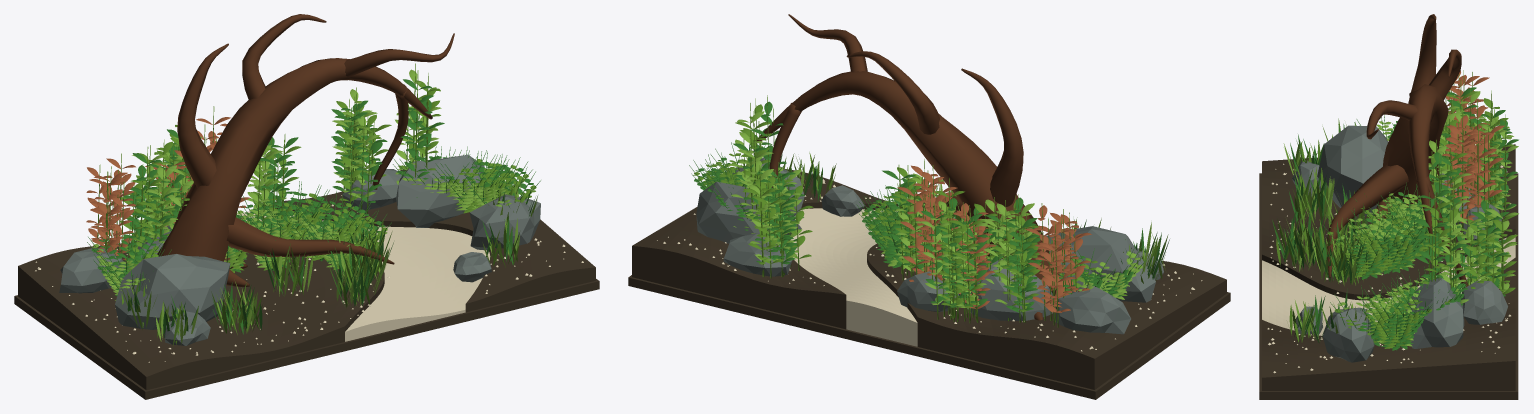
File: hardscape.glb
3 renders of one model, left to right at view 1: azimuth 30°, elevation 25°; view 2: azimuth 150°, elevation 25°; view 3: azimuth 270°, elevation 25°, orthographic. The views are drawn at different scales.
Parts seen in each view (by area): view 1: hardscape.wood.arch, bed.left, bed.path, bed.right, hardscape.stone.00, bed.foundation, hardscape.stone.04, plants.stem.015, plants.stem.049, hardscape.stone.05, plants.stem.021, plants.stem.027 (+34 smaller); view 2: bed.left, hardscape.wood.arch, bed.right, bed.path, bed.foundation, plants.stem.015, hardscape.stone.00, plants.stem.039, plants.stem.022, hardscape.stone.04, hardscape.stone.02, plants.stem.020 (+17 smaller); view 3: bed.right, hardscape.wood.arch, bed.left, bed.foundation, bed.path, hardscape.stone.00, plants.stem.020, plants.stem.027, hardscape.stone.04, hardscape.stone.05, plants.stem.039, plants.stem.016 (+46 smaller).
Part boxes in pixels (left/top/right/bottom): hardscape.wood.arch: left=157, top=14, right=454, bottom=286; bed.left: left=18, top=230, right=384, bottom=390; bed.path: left=237, top=211, right=490, bottom=341; bed.right: left=264, top=169, right=595, bottom=312; hardscape.stone.00: left=115, top=254, right=230, bottom=329; bed.foundation: left=14, top=279, right=599, bottom=399; hardscape.stone.04: left=396, top=154, right=484, bottom=227; plants.stem.015: left=86, top=153, right=135, bottom=259; plants.stem.049: left=331, top=105, right=391, bottom=213; hardscape.stone.05: left=469, top=194, right=540, bottom=250; plants.stem.021: left=246, top=134, right=301, bottom=231; plants.stem.027: left=395, top=63, right=444, bottom=197; bed.left: left=867, top=243, right=1226, bottom=389; hardscape.wood.arch: left=757, top=14, right=1070, bottom=320; bed.right: left=632, top=169, right=898, bottom=329; bed.path: left=790, top=208, right=917, bottom=346; bed.foundation: left=628, top=275, right=1230, bottom=399; plants.stem.015: left=1025, top=203, right=1091, bottom=327; hardscape.stone.00: left=1046, top=226, right=1155, bottom=302; plants.stem.039: left=743, top=162, right=797, bottom=278; plants.stem.022: left=938, top=210, right=988, bottom=323; hardscape.stone.04: left=696, top=181, right=801, bottom=243; hardscape.stone.02: left=1053, top=285, right=1130, bottom=334; plants.stem.020: left=897, top=159, right=957, bottom=288; bed.right: left=1262, top=257, right=1515, bottom=390; hardscape.wood.arch: left=1327, top=14, right=1468, bottom=287; bed.left: left=1262, top=144, right=1515, bottom=300; bed.foundation: left=1259, top=173, right=1518, bottom=399; bed.path: left=1262, top=234, right=1515, bottom=335; hardscape.stone.00: left=1317, top=125, right=1388, bottom=216; plants.stem.020: left=1442, top=100, right=1504, bottom=233; plants.stem.027: left=1413, top=181, right=1471, bottom=305; hardscape.stone.04: left=1406, top=277, right=1464, bottom=348; hardscape.stone.05: left=1322, top=307, right=1374, bottom=362; plants.stem.039: left=1471, top=199, right=1518, bottom=294; plants.stem.016: left=1479, top=90, right=1518, bottom=220.
Size of the model in its own units: 0.588 by 0.3121 by 0.2955.
